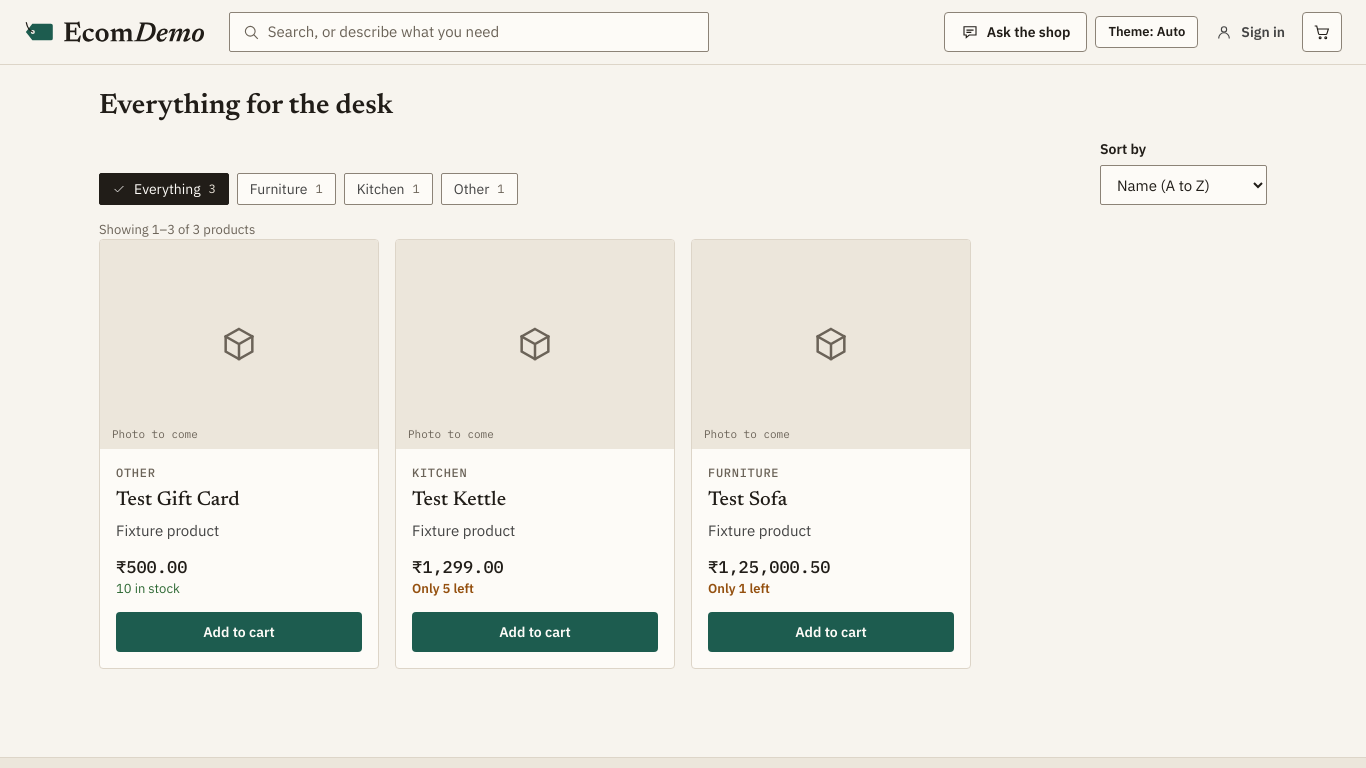
filter and sort, kept in the URL › filters by a category derived from the products, and puts it in the URL
The image size is (1366, 768).
Expected: the heading "Test Kettle" is shown, [412,490,506,510]
What coordinates should you click on to do the following:
click the button "Kitchen 1"
I would click on:
 (388, 189)
Its box is [344,173,433,205].
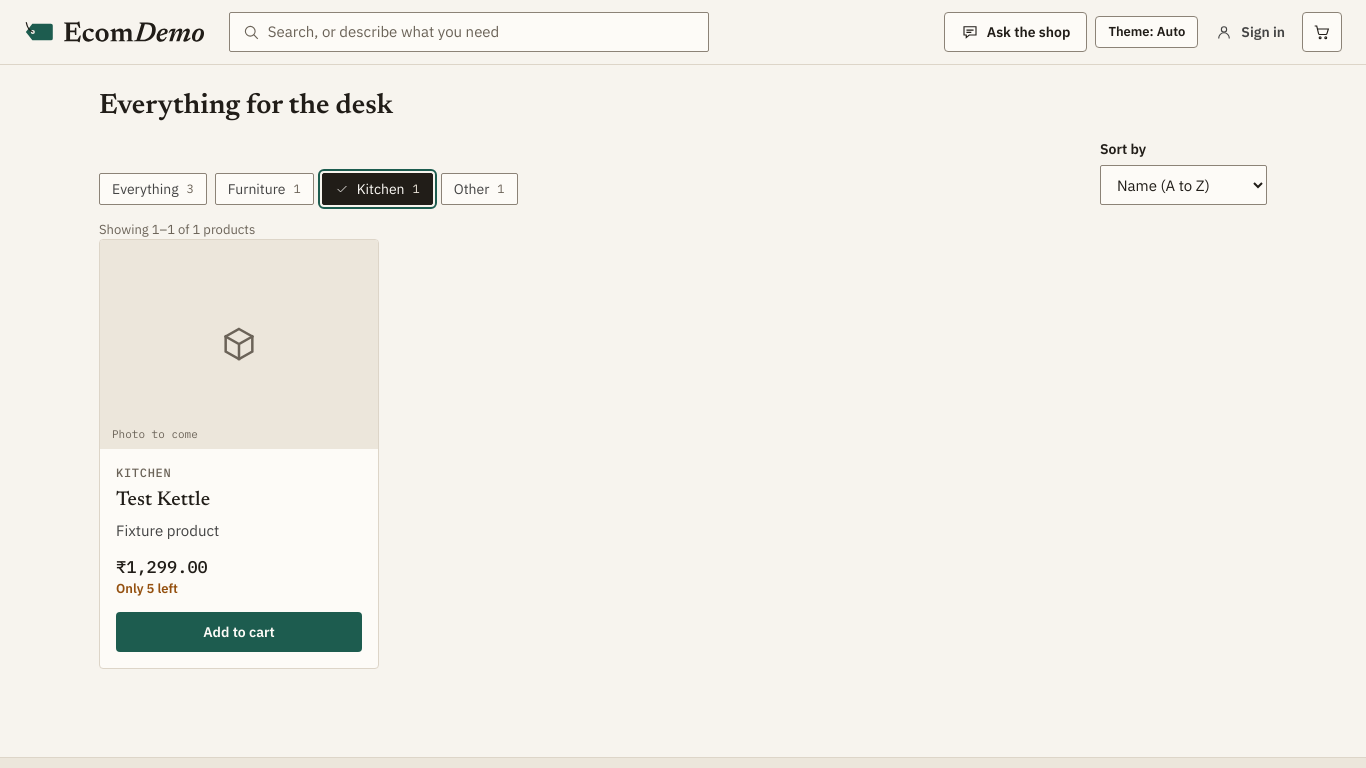
Expected: the text "Showing 1–1 of 1 products" is shown, [99,221,255,238]
